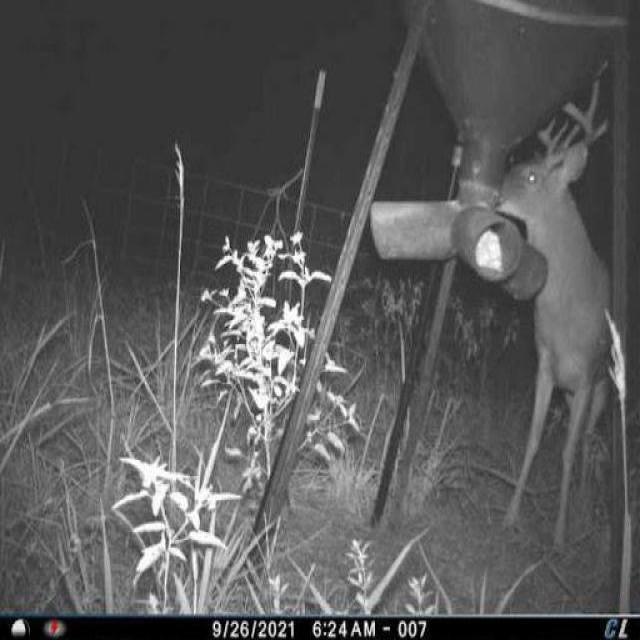deer: (495, 72, 621, 571)
